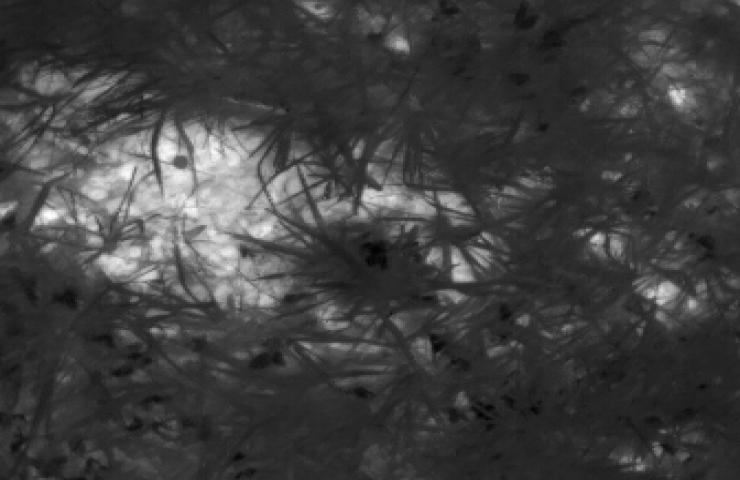landmines: (18, 64, 352, 306)
